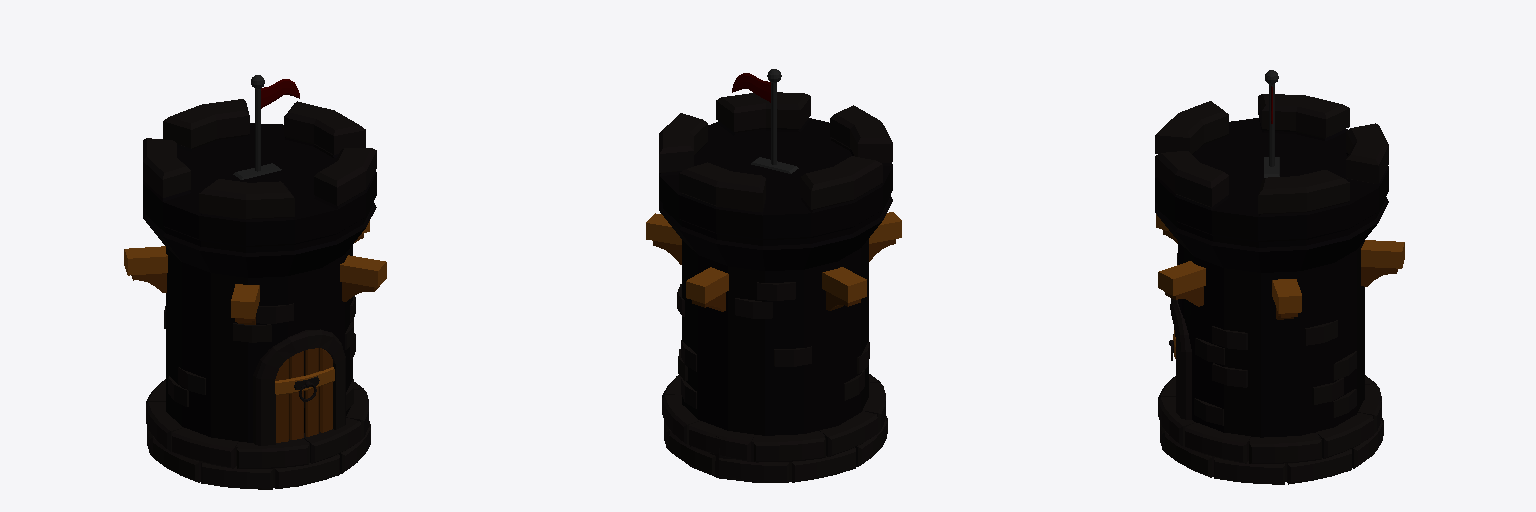
The model's file is Tower.obj.
3 views of the same model, side by side, from view 1: azimuth 30°, elevation 25°; view 2: azimuth 150°, elevation 25°; view 3: azimuth 270°, elevation 25° (orthographic).
Parts seen in each view (by area): view 1: Tower_Cube.292, Tower_Door_Cylinder.003; view 2: Tower_Cube.292; view 3: Tower_Cube.292.
Boxes of the visible parts, <box> form: Tower_Cube.292: <box>124,75,386,489</box>; Tower_Door_Cylinder.003: <box>275,348,334,442</box>; Tower_Cube.292: <box>646,69,901,482</box>; Tower_Cube.292: <box>1155,70,1404,484</box>.
Bounding box in the file's own units: 9.44 × 14.6 × 8.98.